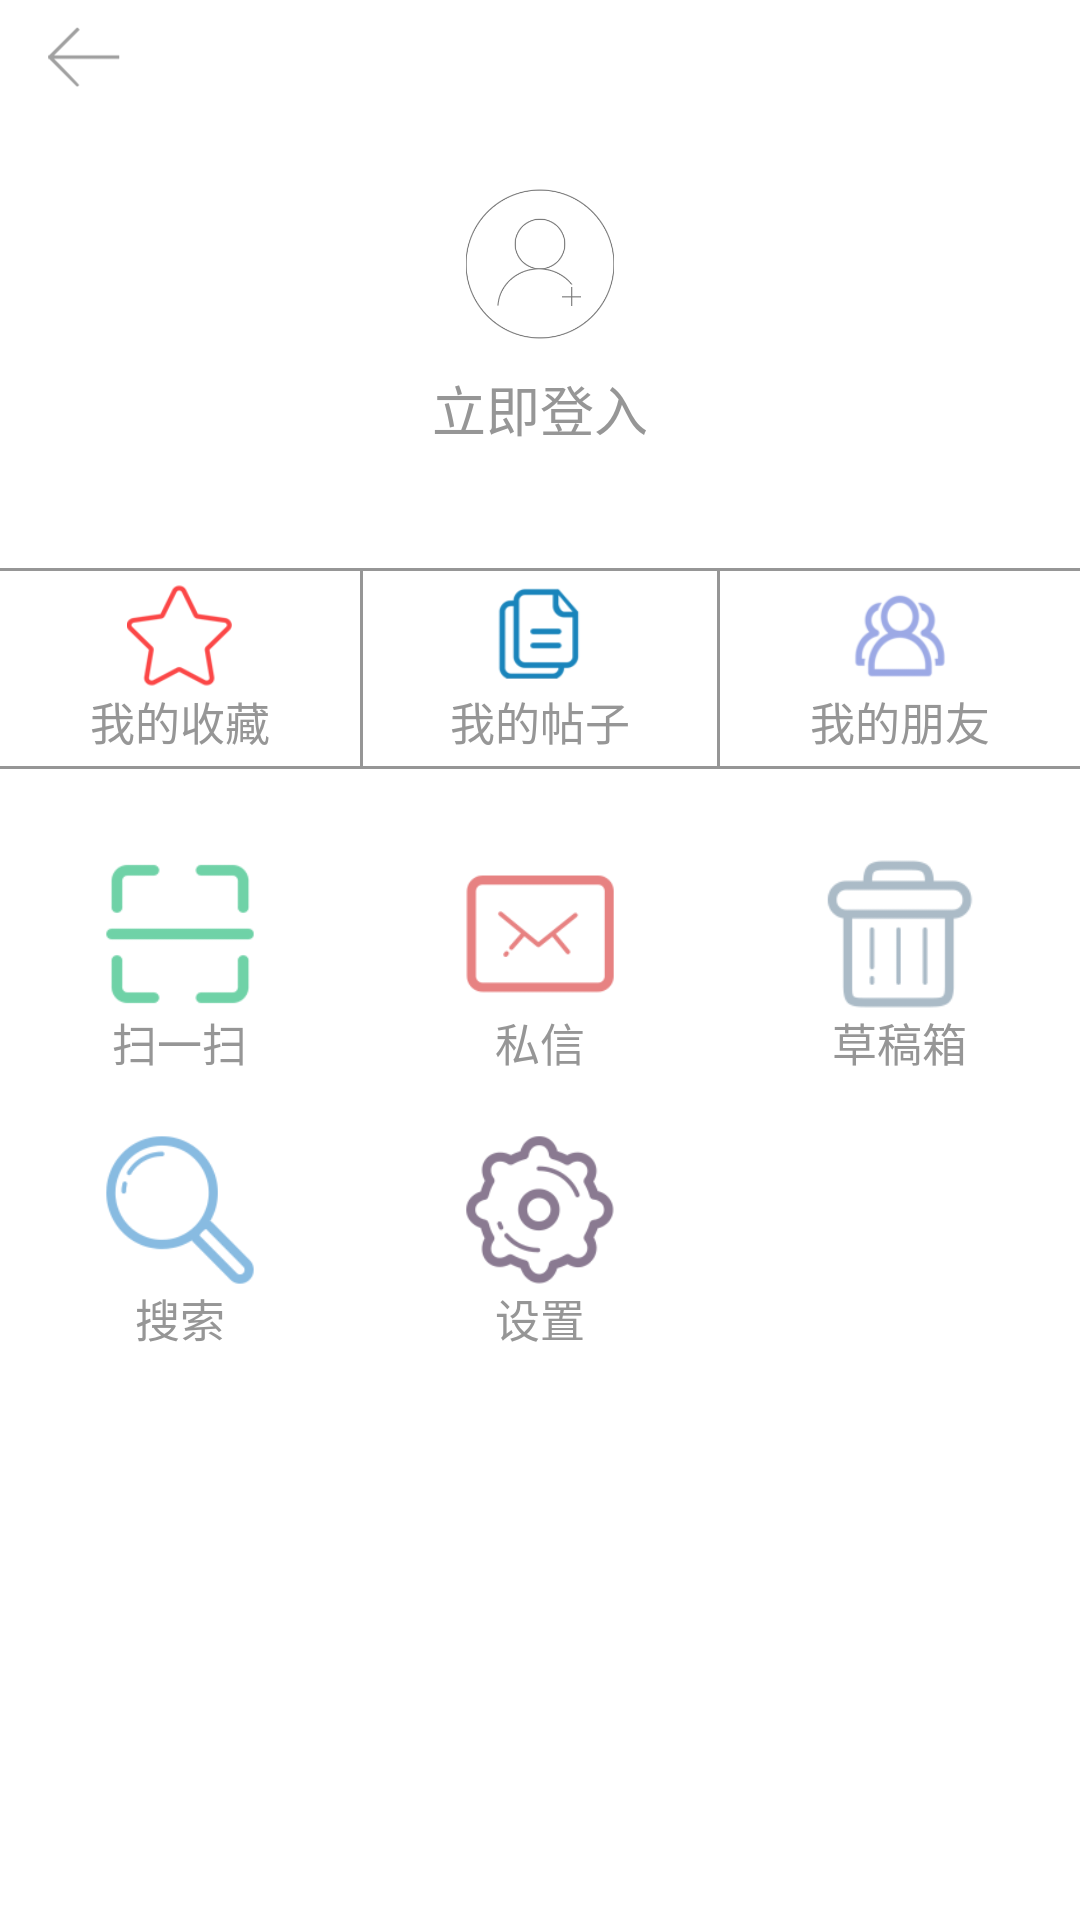

Icon bounding boxes for this 1080*1920 phone screenshot, format (x1, y1, x2, y2):
personal save: (127, 585, 232, 686)
personal trush: (828, 861, 972, 1008)
top back: (48, 28, 119, 87)
user: (466, 189, 614, 339)
